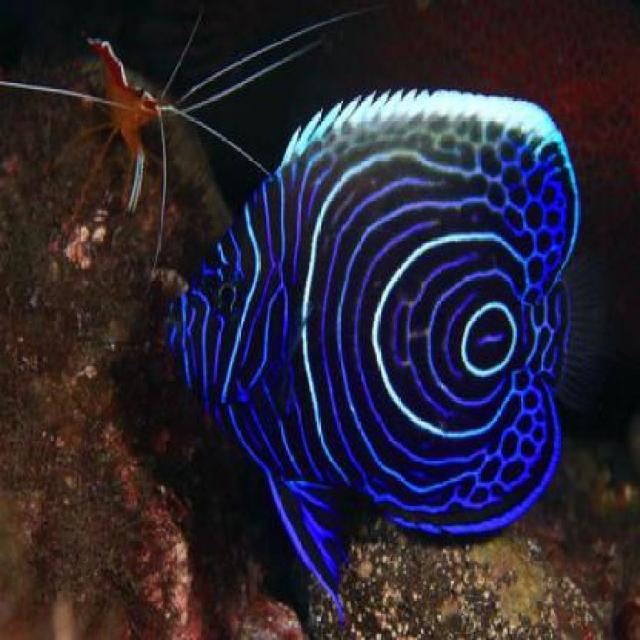AngelFish: (174, 88, 582, 612)
